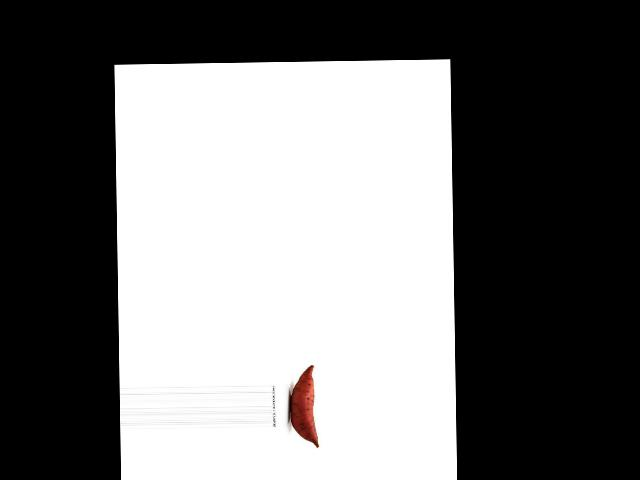sweet_potato: (288, 364, 323, 448)
